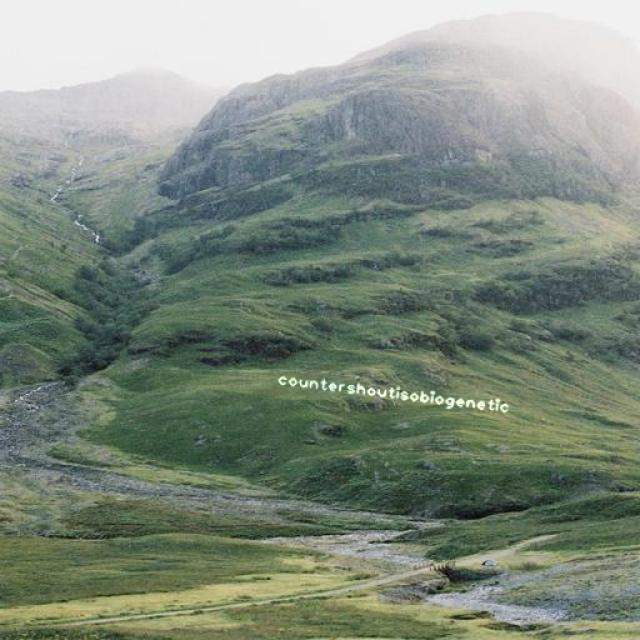watermark: (272, 371, 520, 415)
